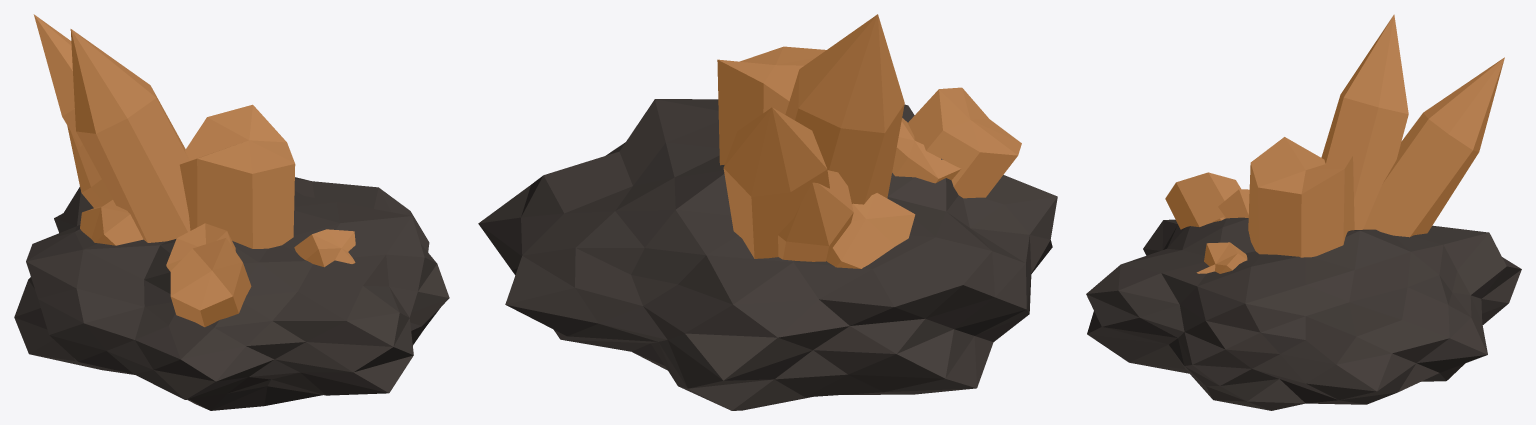
File: wb_crystal_knee_broken.glb
3 views of the same model, side by side, from view 1: azimuth 30°, elevation 25°; view 2: azimuth 150°, elevation 25°; view 3: azimuth 270°, elevation 25° (orthographic). The views are drawn at different scales.
Visible parts, largest first — view 1: wb_crystal_knee_broken; view 2: wb_crystal_knee_broken; view 3: wb_crystal_knee_broken.
Boxes of the visible parts, x1=… form: wb_crystal_knee_broken: x1=14, y1=14, x2=449, y2=410; wb_crystal_knee_broken: x1=478, y1=14, x2=1057, y2=410; wb_crystal_knee_broken: x1=1086, y1=14, x2=1521, y2=410.
Size of the model in its own units: 1.29 by 1.02 by 1.34.
